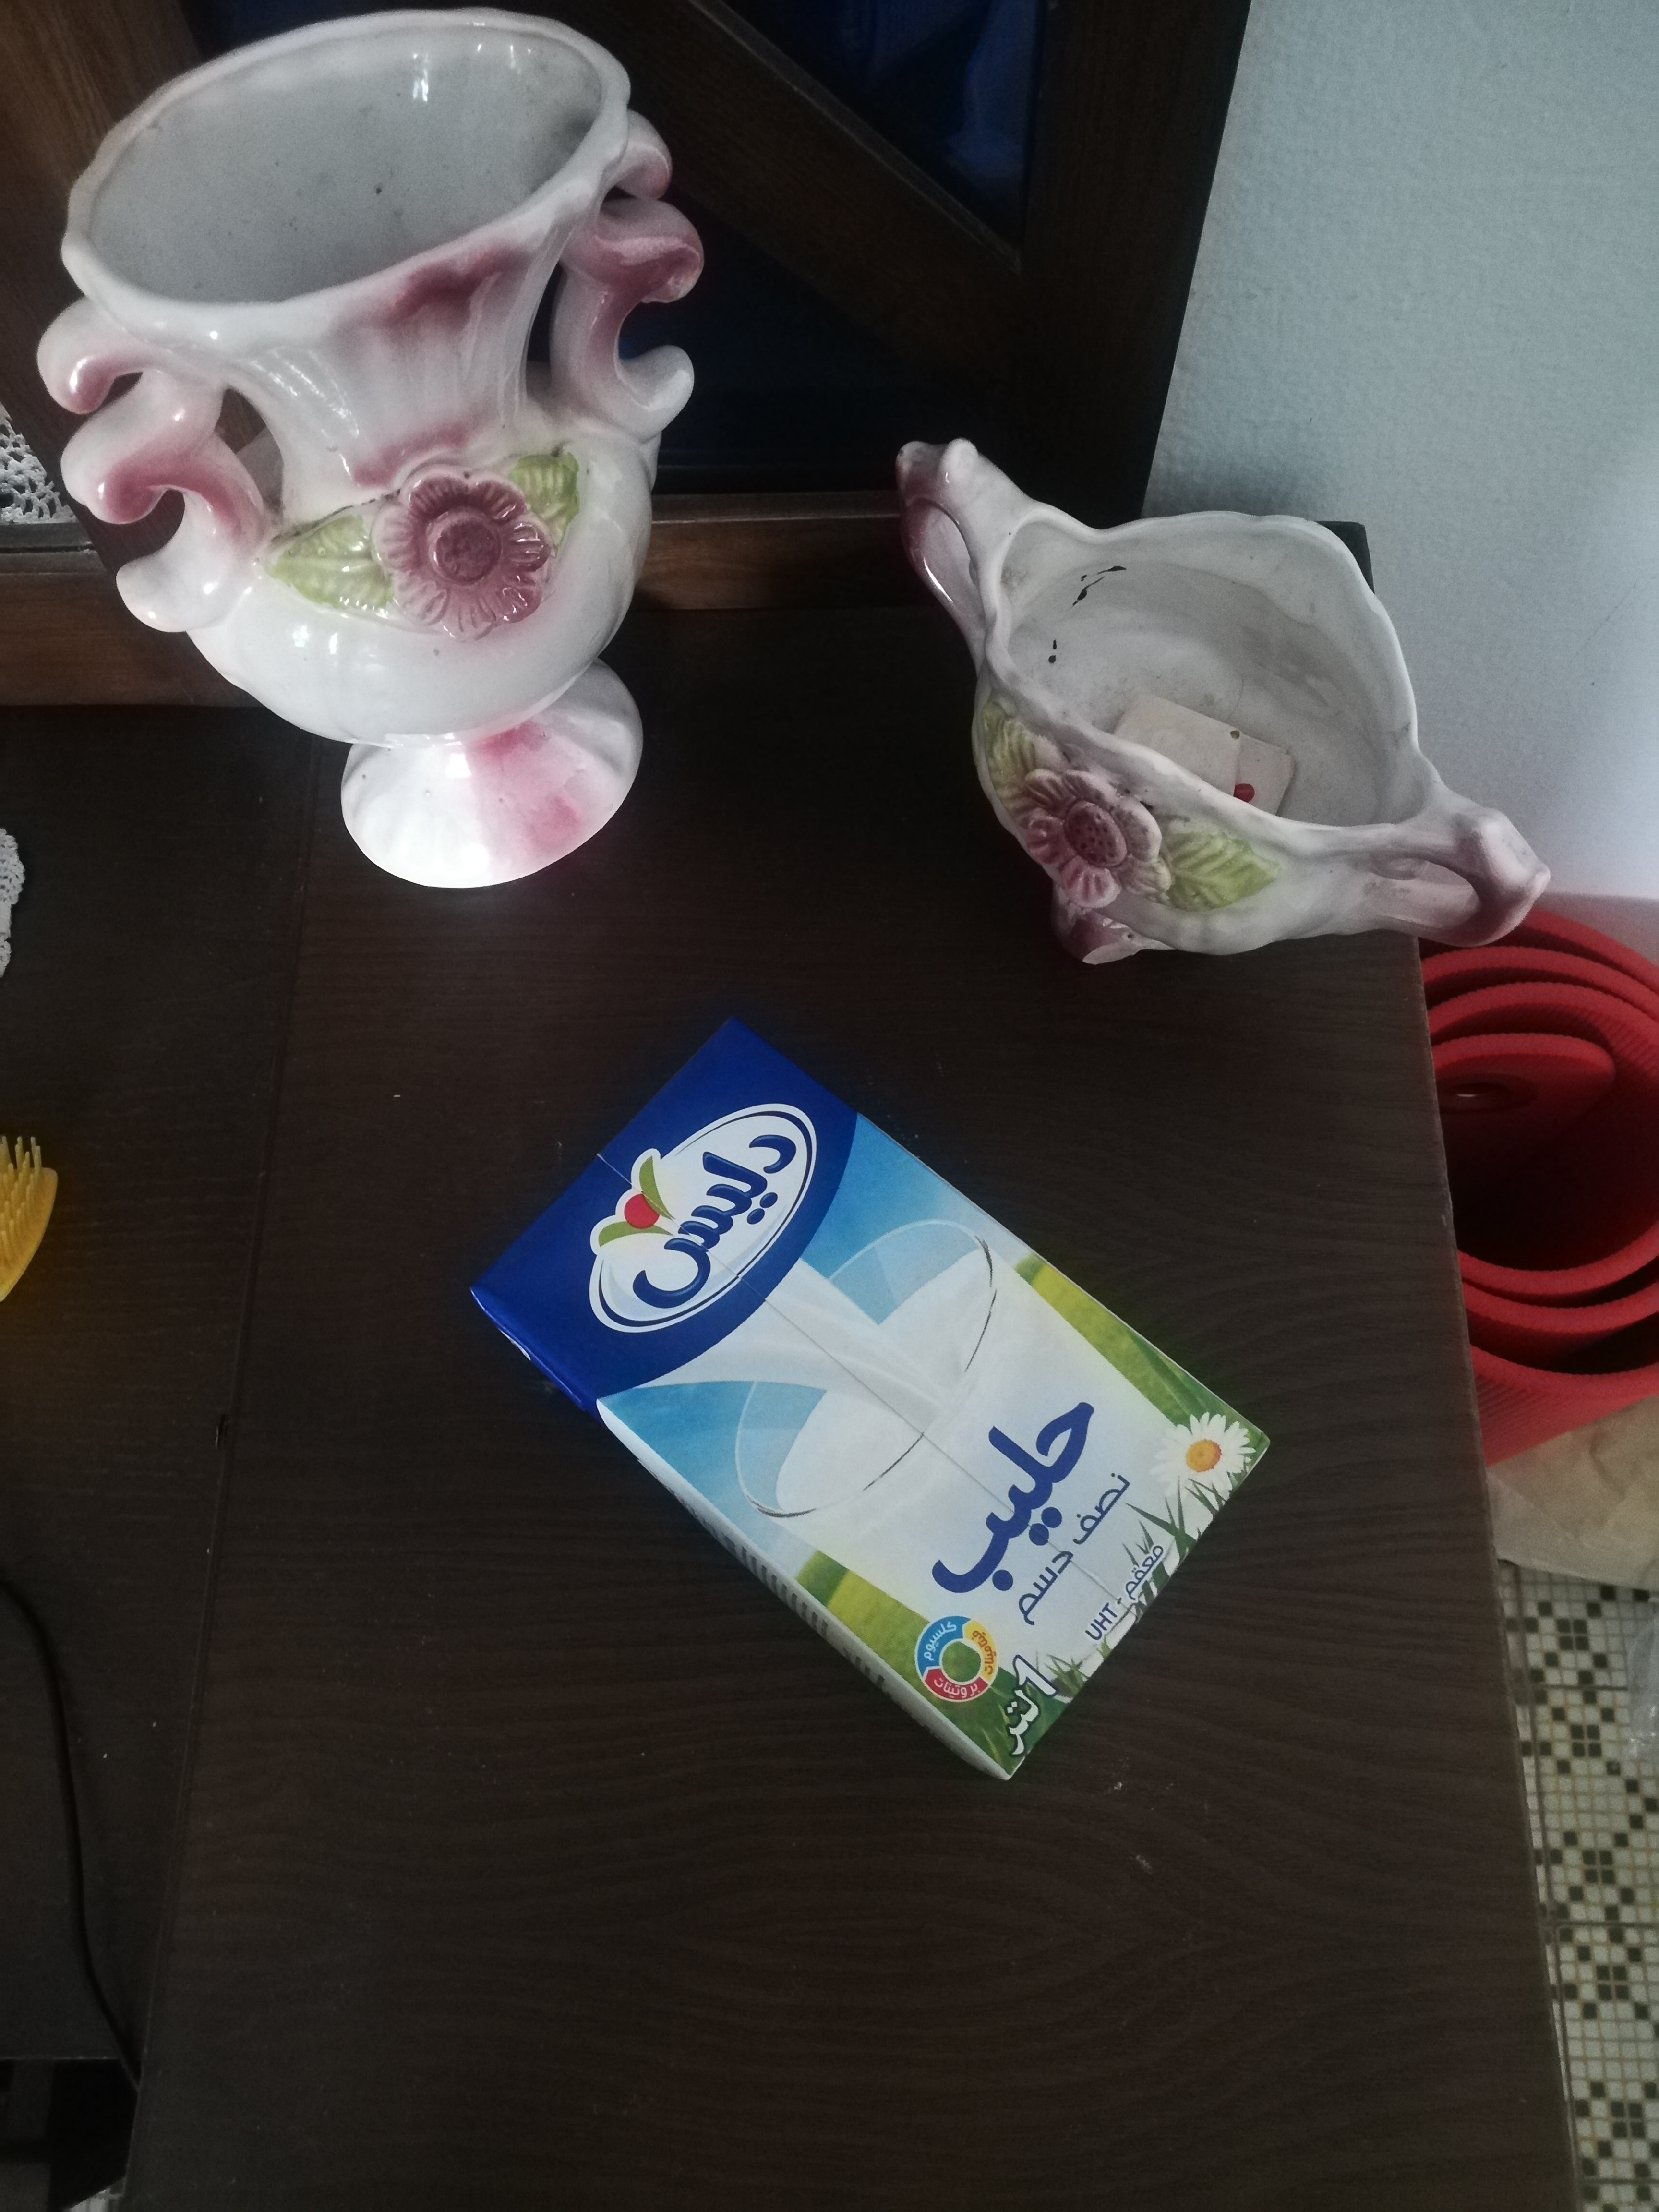Lait delice: (469, 1014, 1276, 1785)
